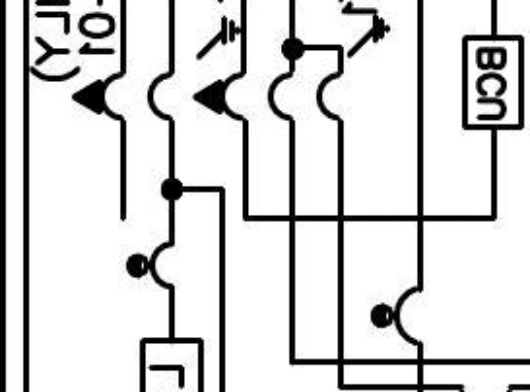BCU: (461, 33, 525, 131)
